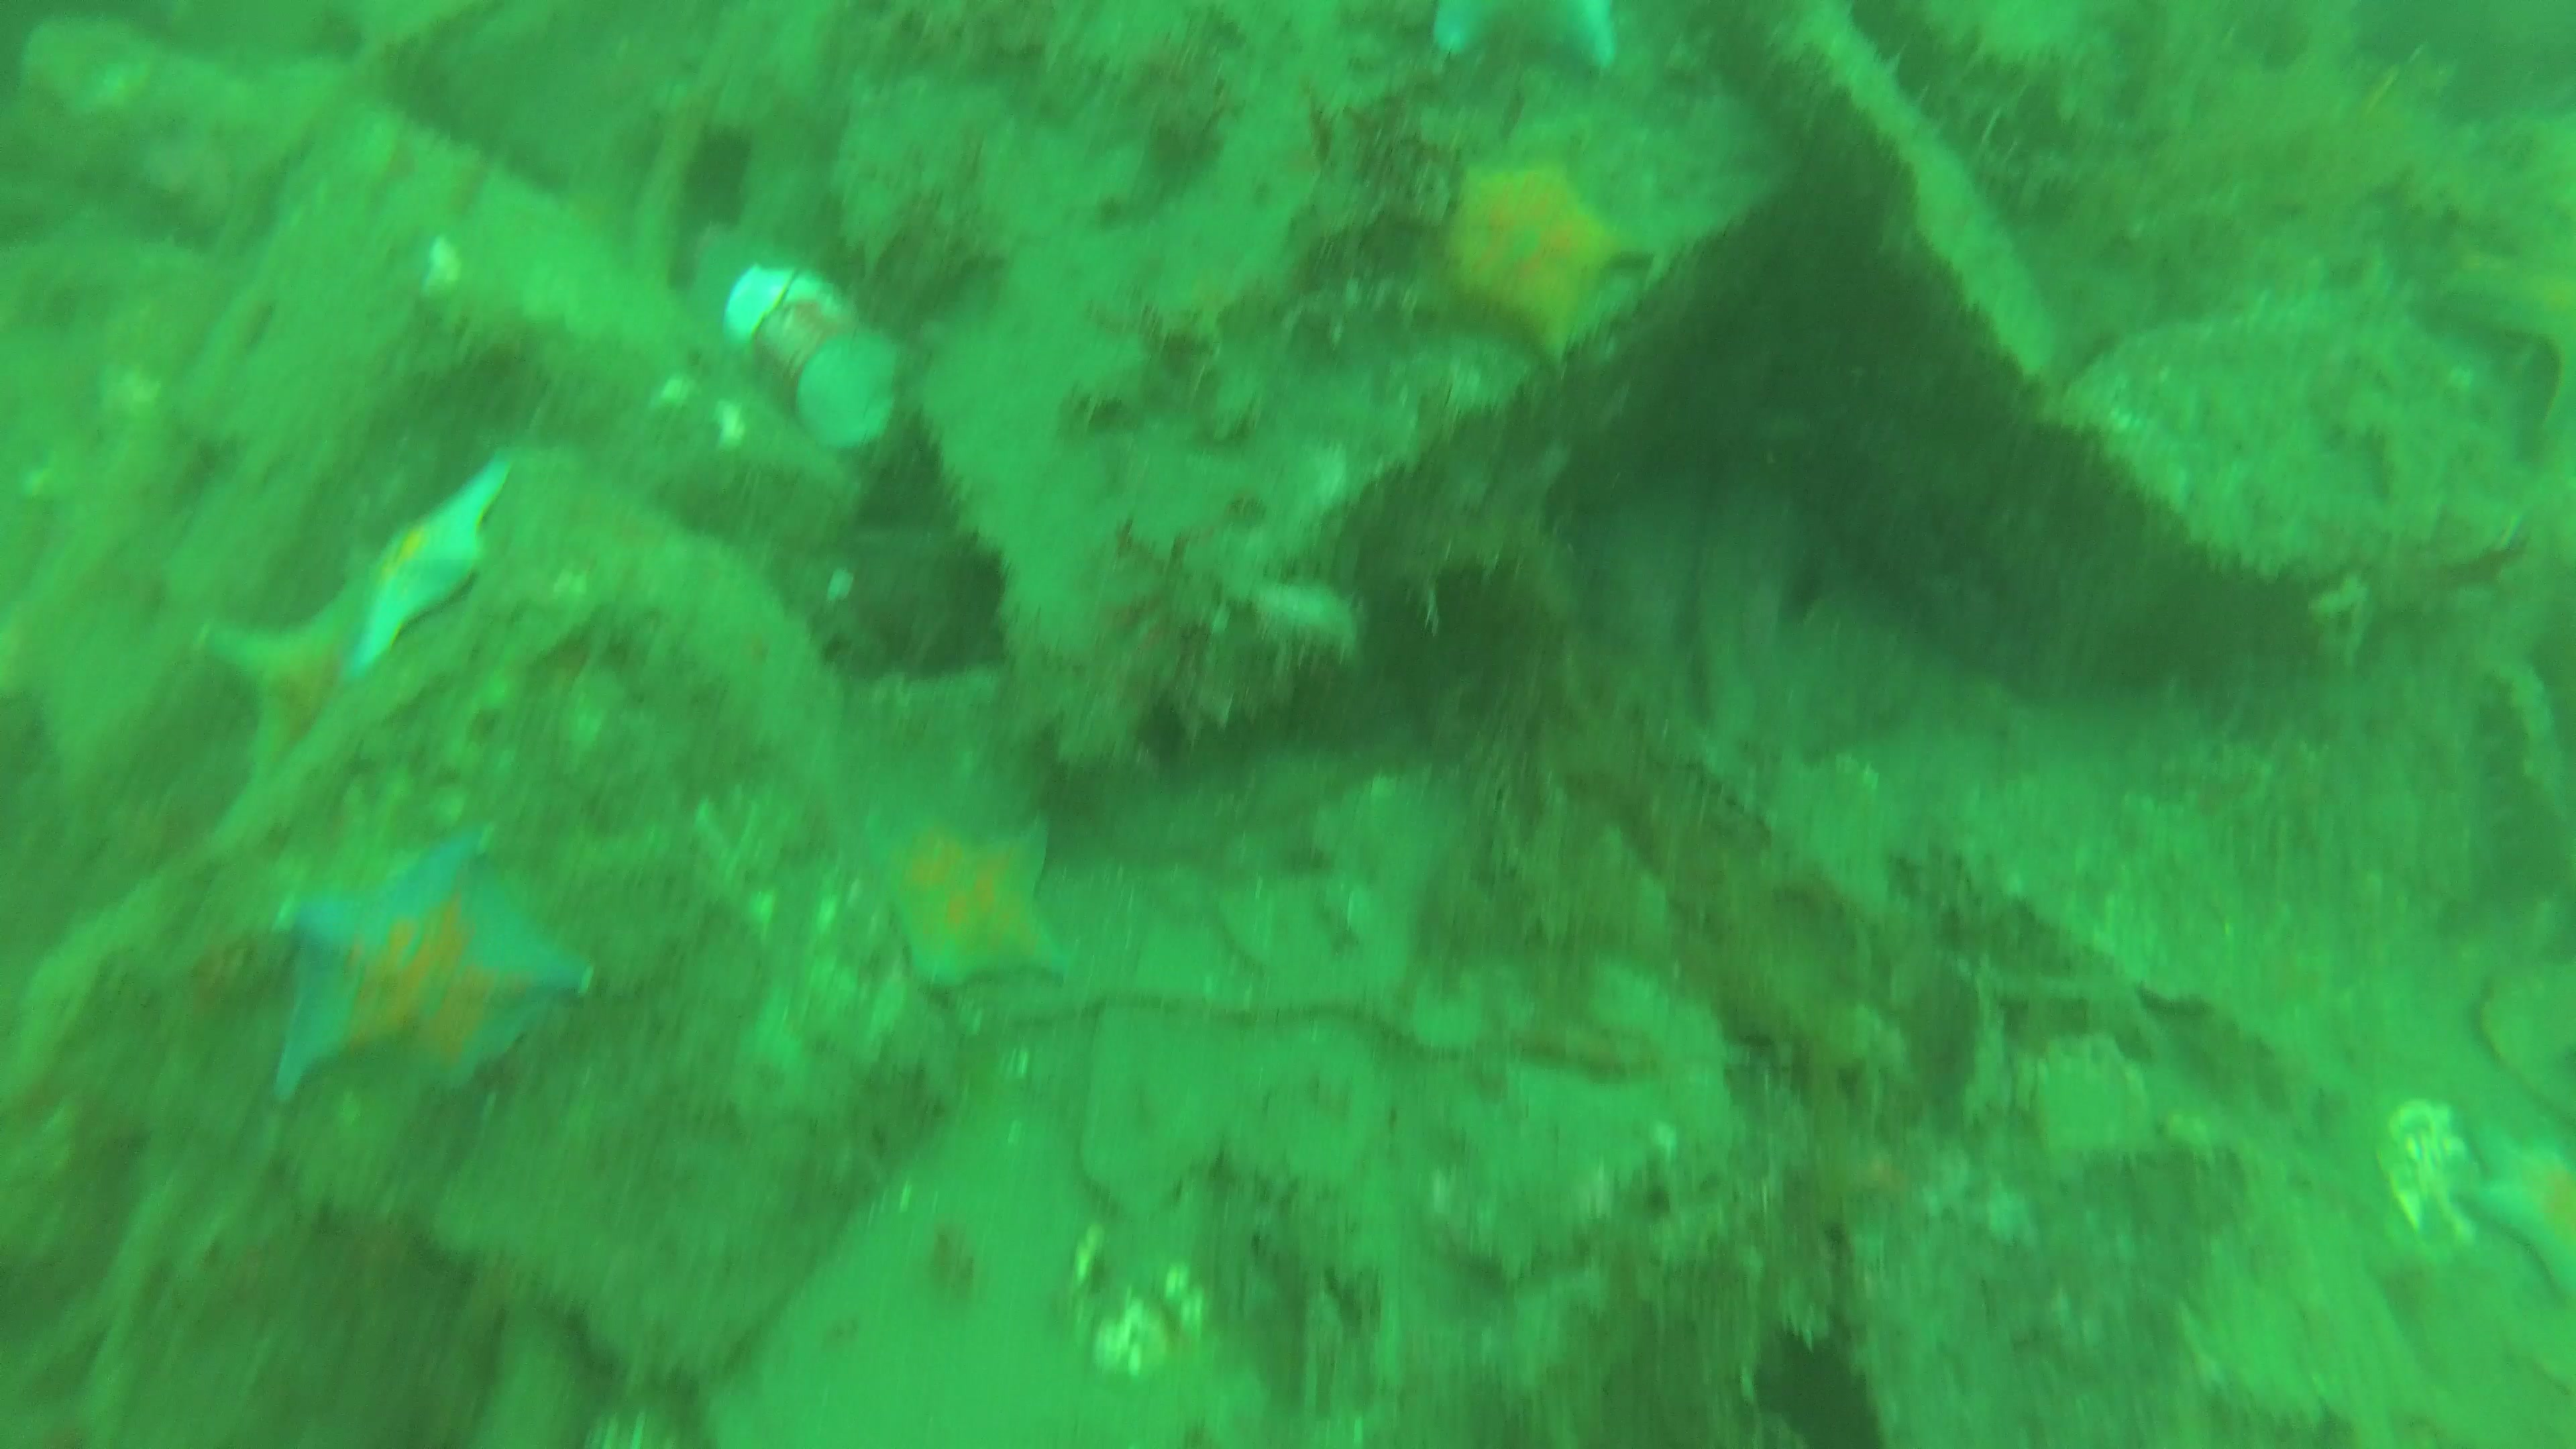starfish: (265, 828, 586, 1097), (1426, 152, 1656, 370), (865, 796, 1069, 1001), (198, 589, 386, 800), (357, 444, 502, 674), (2454, 1099, 2576, 1307), (1419, 0, 1633, 64)
